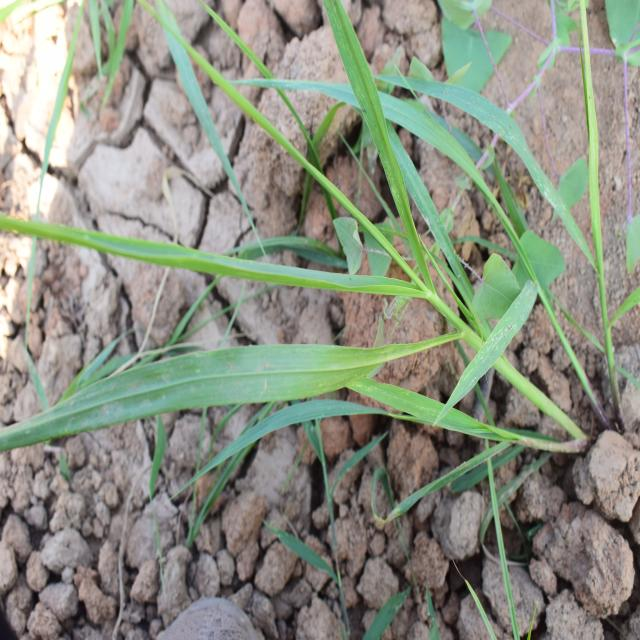green_foxtail: (51, 52, 546, 476)
